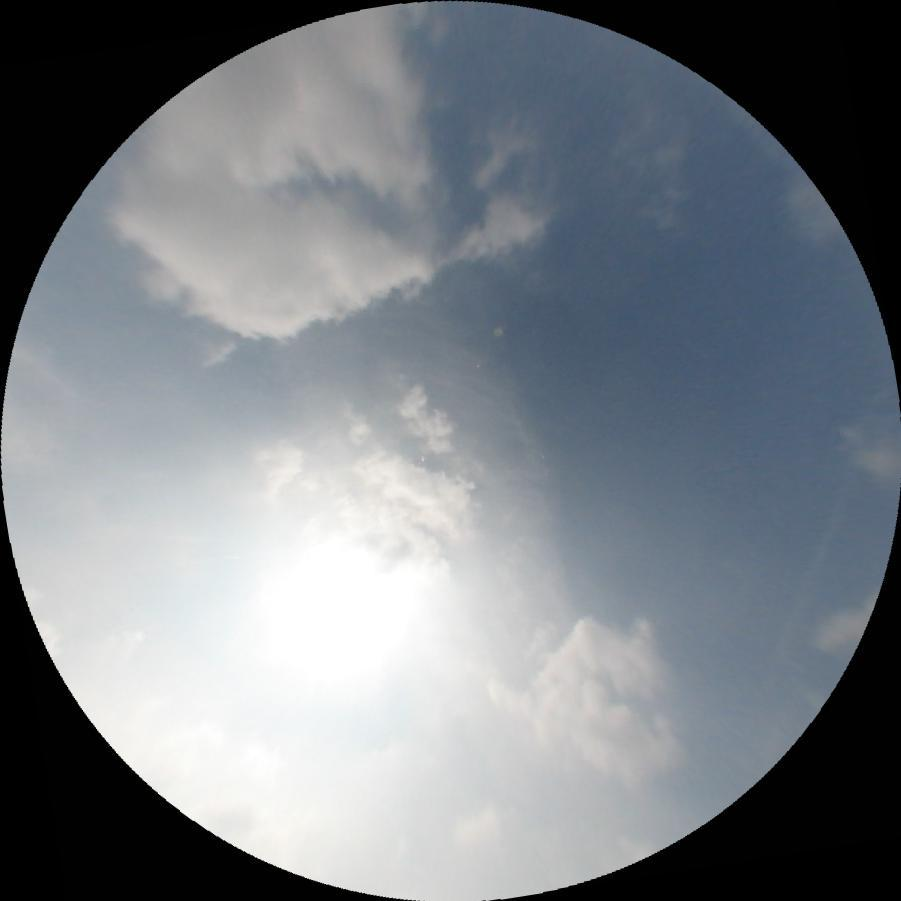sun: (240, 521, 431, 705)
unknow: (730, 479, 859, 723)
